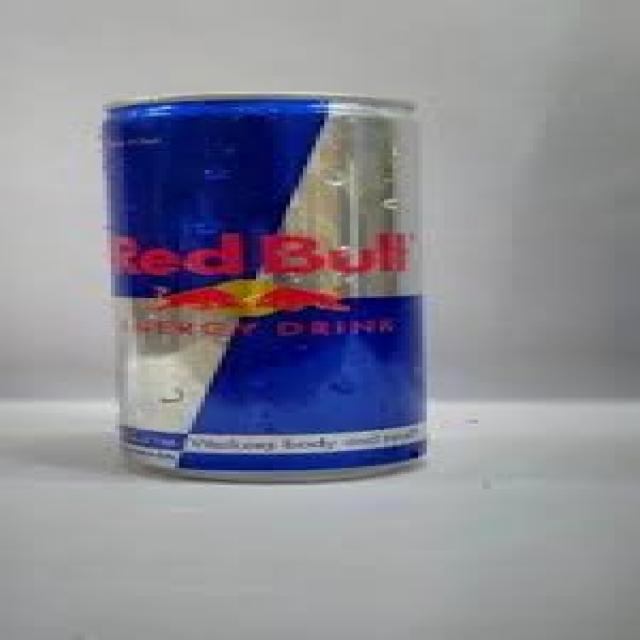red-bull: (75, 89, 444, 488)
